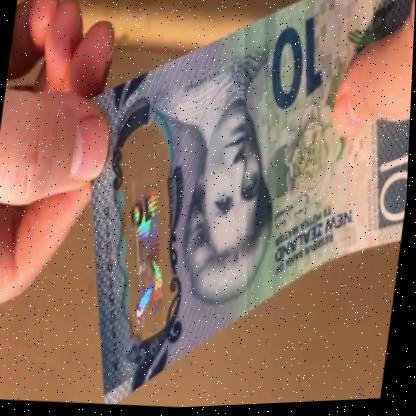10B: (118, 186, 183, 335)
